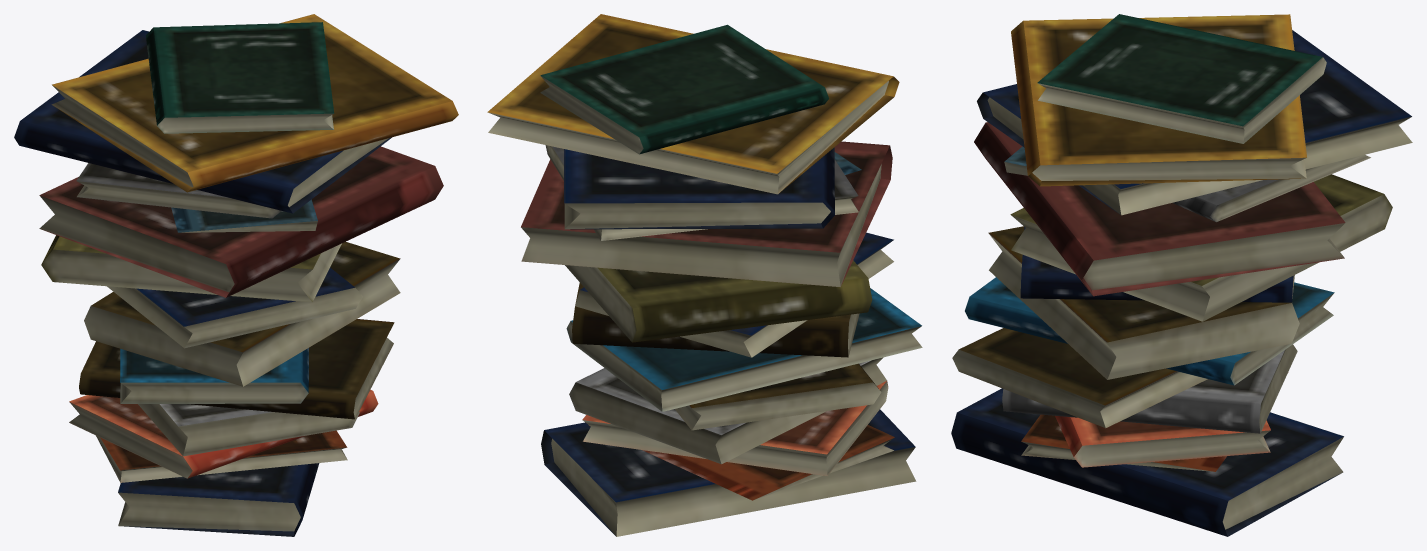
File: M_Home_Garden_Book_Collection_05.fbx
3 renders of one model, left to right at view 1: azimuth 30°, elevation 25°; view 2: azimuth 150°, elevation 25°; view 3: azimuth 270°, elevation 25°, orthographic. The views are drawn at different scales.
Visible parts, largest first — view 1: M_Home_Garden_Book_Collection_05; view 2: M_Home_Garden_Book_Collection_05; view 3: M_Home_Garden_Book_Collection_05.
Boxes of the visible parts, <box> form: M_Home_Garden_Book_Collection_05: <box>14,14,458,536</box>; M_Home_Garden_Book_Collection_05: <box>487,14,922,536</box>; M_Home_Garden_Book_Collection_05: <box>951,14,1412,536</box>.
Bounding box in the file's own units: 41.37 × 43.33 × 44.33.
